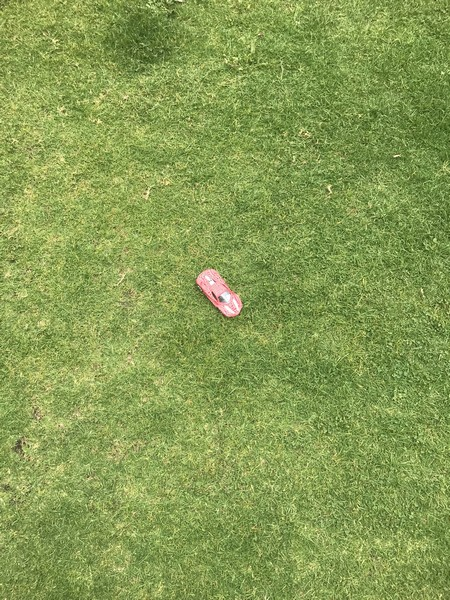RC: (195, 265, 243, 320)
